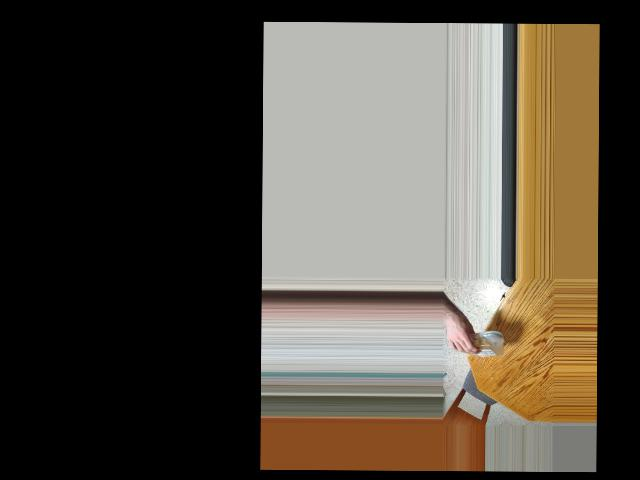cheese: (466, 314, 504, 366)
